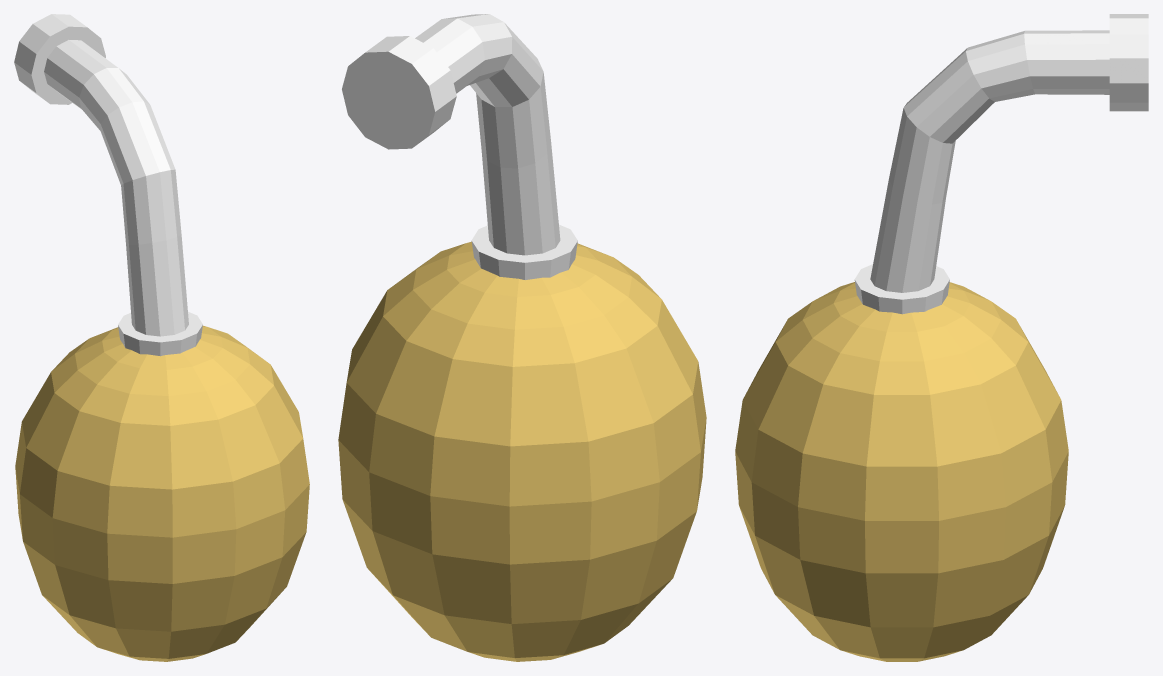
File: Light_7.fbx
The picture shows the model from 3 angles, left to right: view 1: azimuth 30°, elevation 25°; view 2: azimuth 150°, elevation 25°; view 3: azimuth 270°, elevation 25°; orthographic projection. The views are drawn at different scales.
Parts seen in each view (by area): view 1: Light_7; view 2: Light_7; view 3: Light_7.
Boxes of the visible parts, bbox=[...] form: Light_7: bbox=[14, 14, 309, 661]; Light_7: bbox=[338, 14, 706, 661]; Light_7: bbox=[735, 14, 1148, 661].
Bounding box in the file's own units: 0.1841 × 0.3864 × 0.2308.
